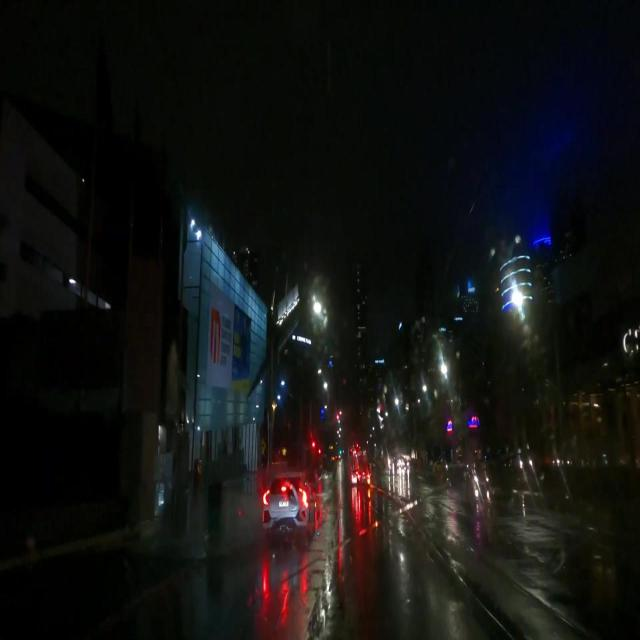Car: (258, 474, 316, 540)
